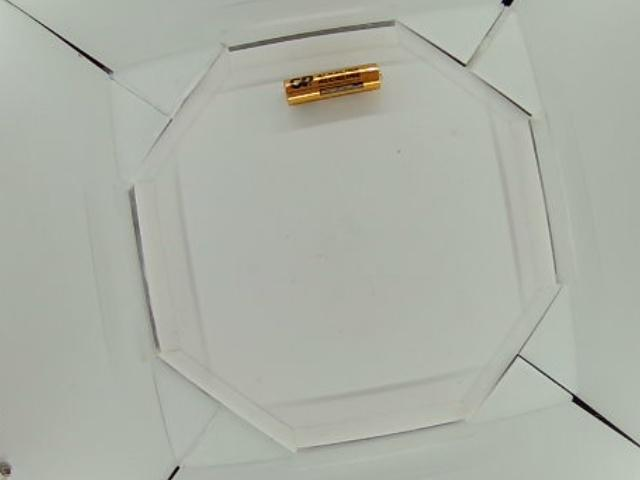Battery: (284, 61, 380, 108)
